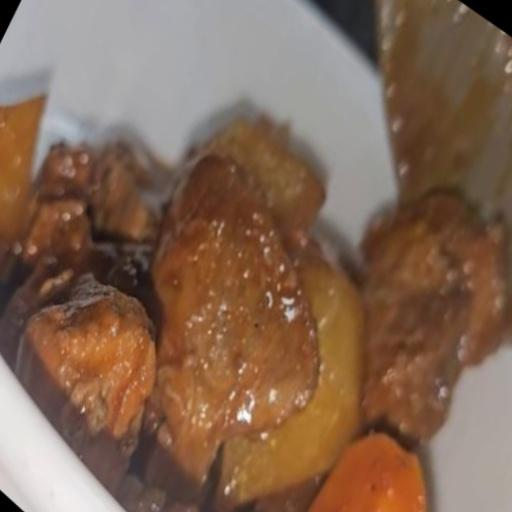pork caldereta: (0, 93, 511, 511)
